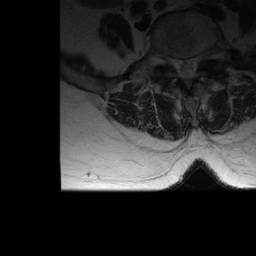CCS_normal: (182, 49, 189, 86)
LFS_normal: (197, 44, 205, 68)
LLS_normal: (190, 49, 197, 82)
RFS_normal: (165, 47, 173, 71)
RLS_normal: (174, 48, 182, 83)
